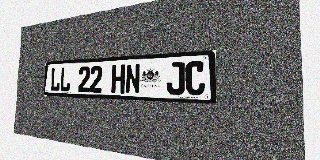2: (90, 65, 103, 93), (78, 66, 90, 92)
C: (185, 60, 205, 96)
H: (111, 64, 125, 93)
J: (167, 61, 185, 95)
L: (60, 67, 71, 92), (50, 67, 61, 91)
N: (125, 64, 140, 94)
